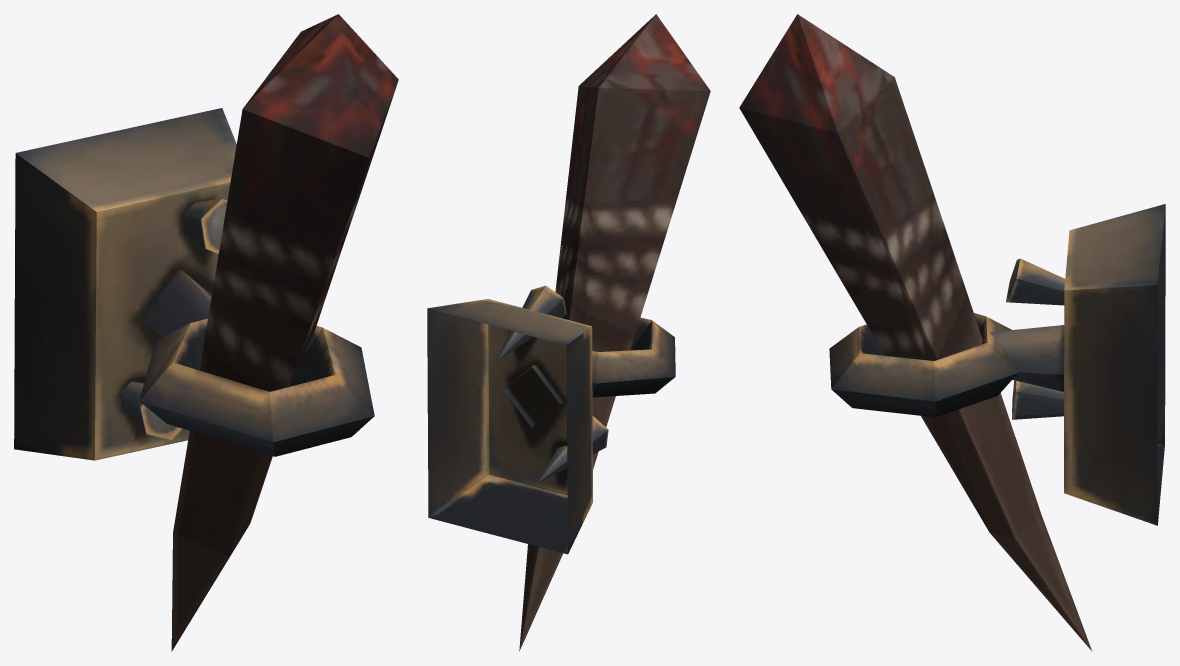
Rendered from bandit_wall_torch_01.fbx.
3 renders of one model, left to right at view 1: azimuth 30°, elevation 25°; view 2: azimuth 150°, elevation 25°; view 3: azimuth 270°, elevation 25°, orthographic. The views are drawn at different scales.
Visible parts, largest first — view 1: obj0.679; view 2: obj0.679; view 3: obj0.679.
Part boxes in pixels (x1,y1,x2,y2): obj0.679: (14, 14, 398, 651); obj0.679: (427, 14, 710, 651); obj0.679: (739, 14, 1165, 651).
Size of the model in its own units: 0.4691 by 1.57 by 0.9591.
